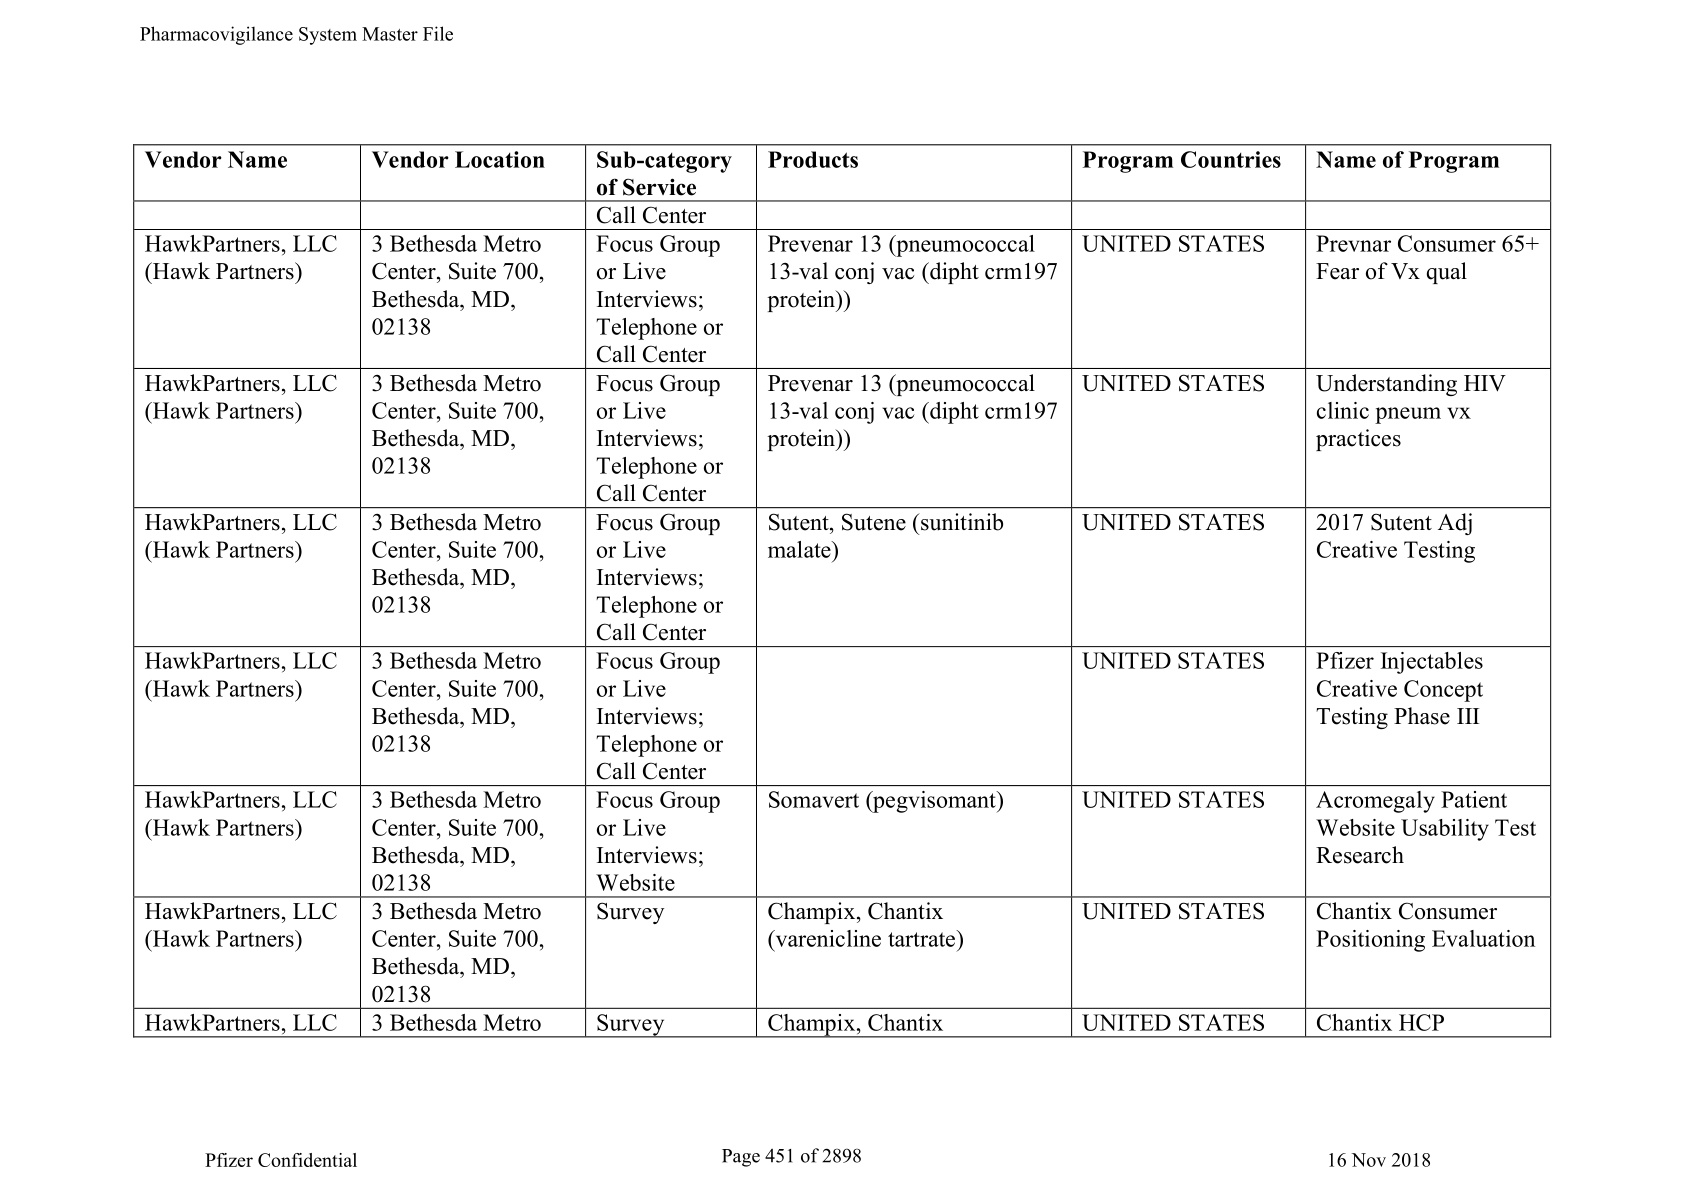full_lined: (131, 143, 1552, 1039)
